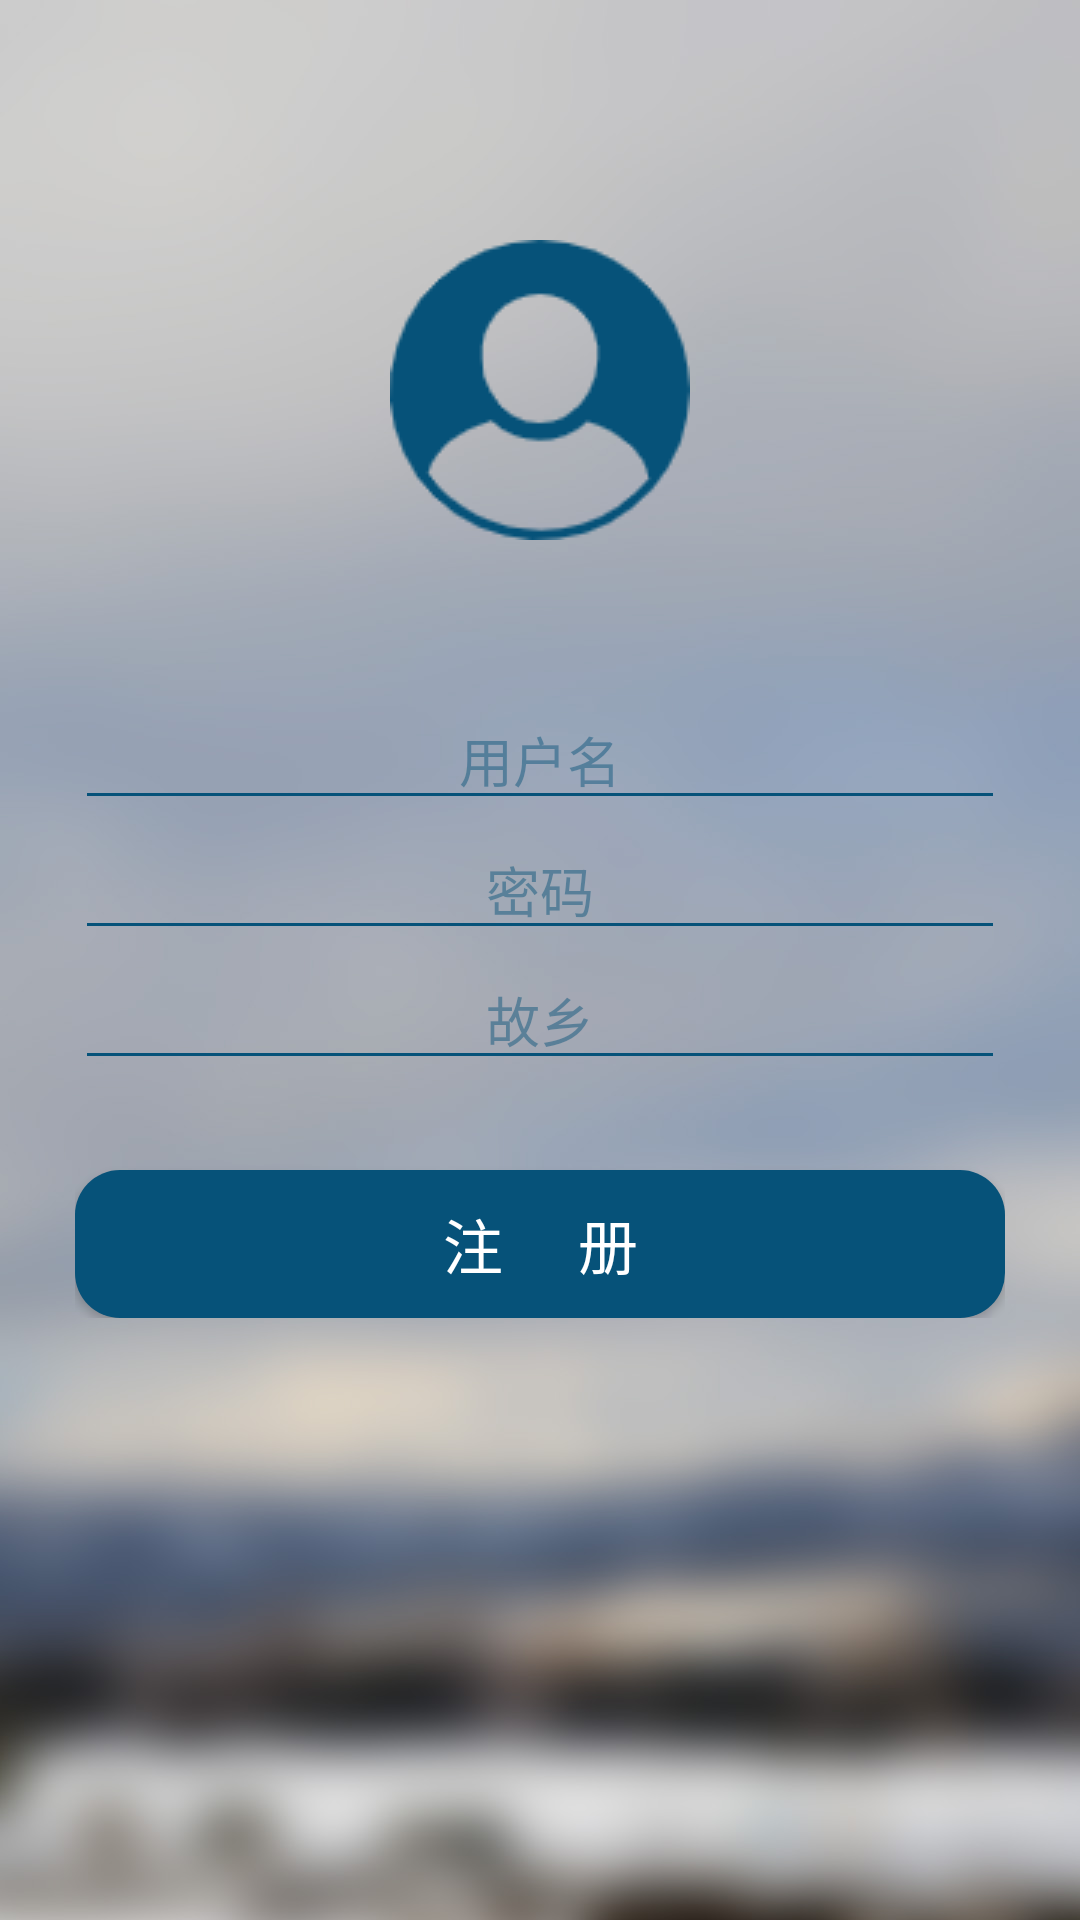

Where to tap for icons on this 1080×1920 app screen, as (x,y):
personal: (540,390)
